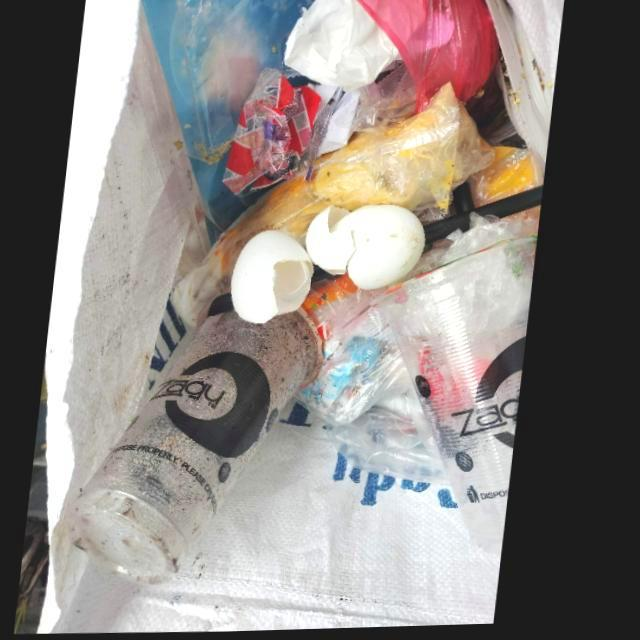food_wrapper: (225, 66, 347, 197)
plastic_container: (83, 293, 330, 585), (382, 244, 540, 542)
